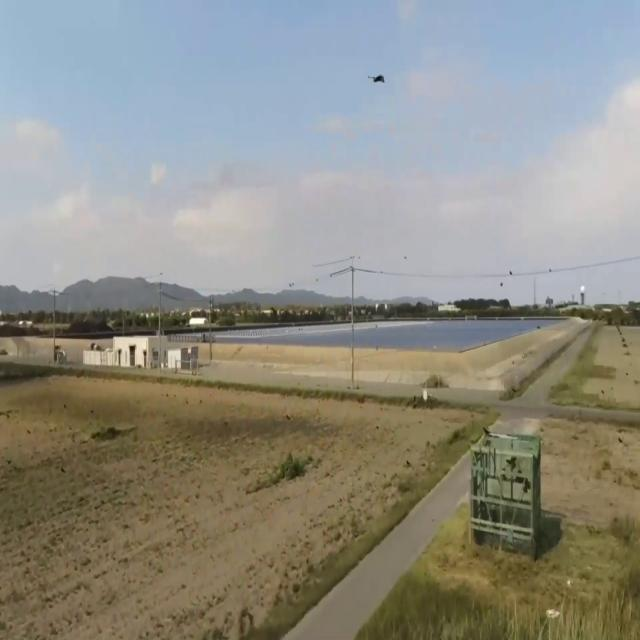bird: (368, 61, 386, 96)
